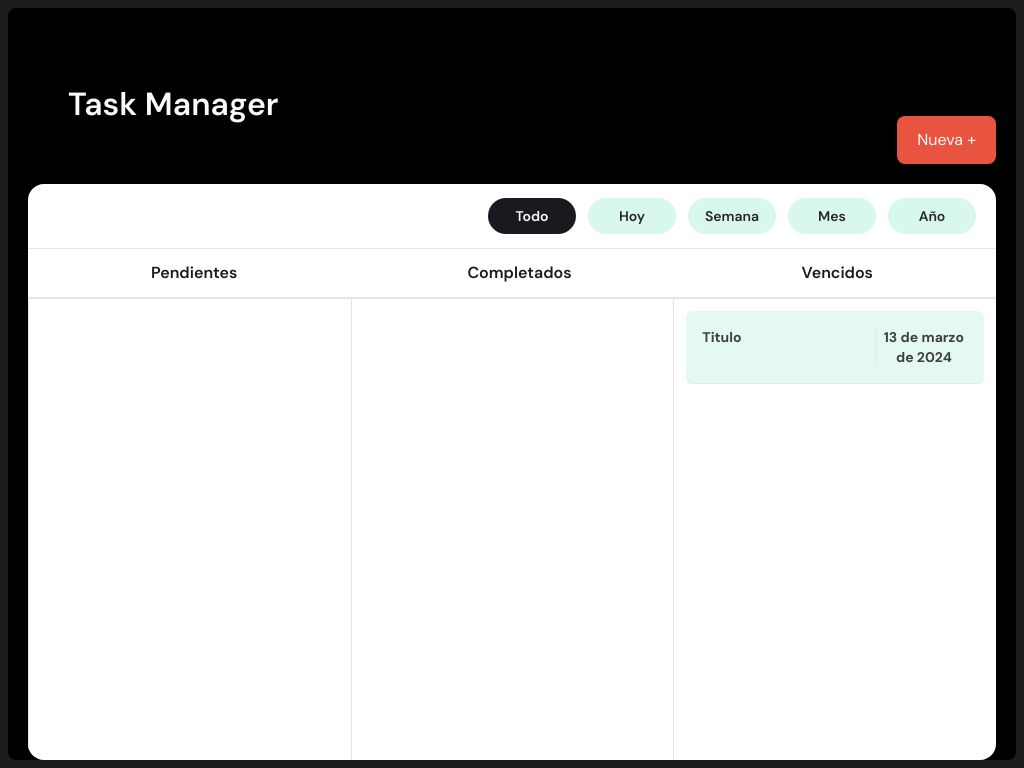
Test: App › Tasks CRUD › Update › should edit task title
Step 1. Click the button with test id "task-card" → (722, 337), box [686,311,984,383]
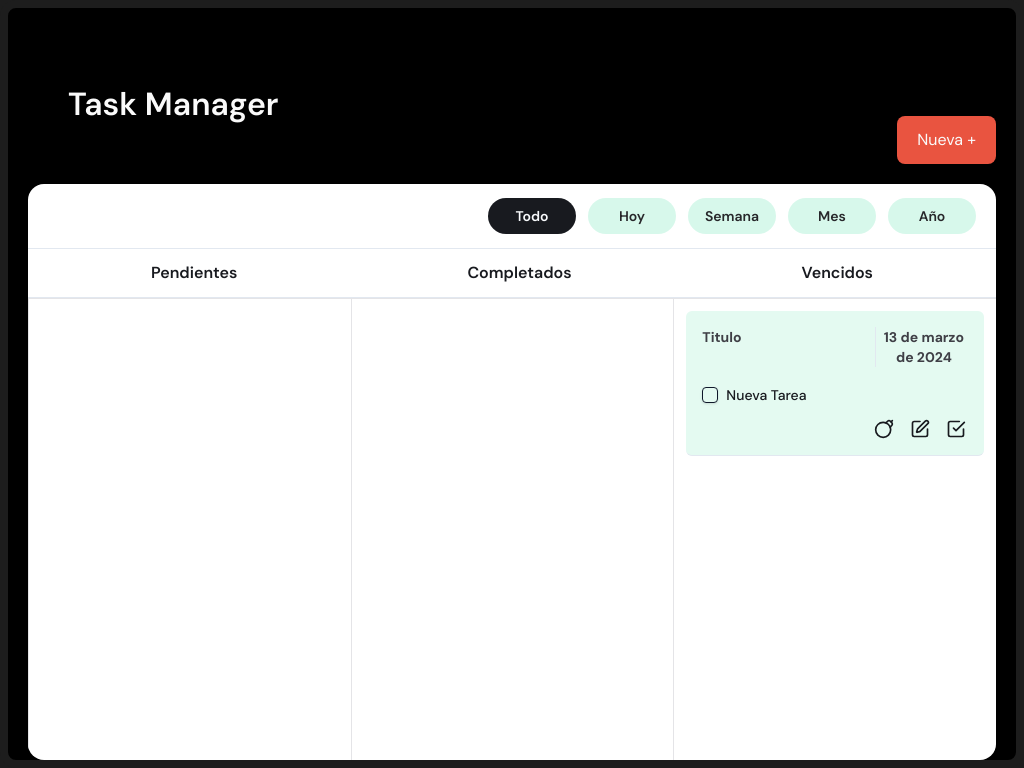
Step 2. Click the button with test id "edit" → (920, 429), box [908,419,932,439]
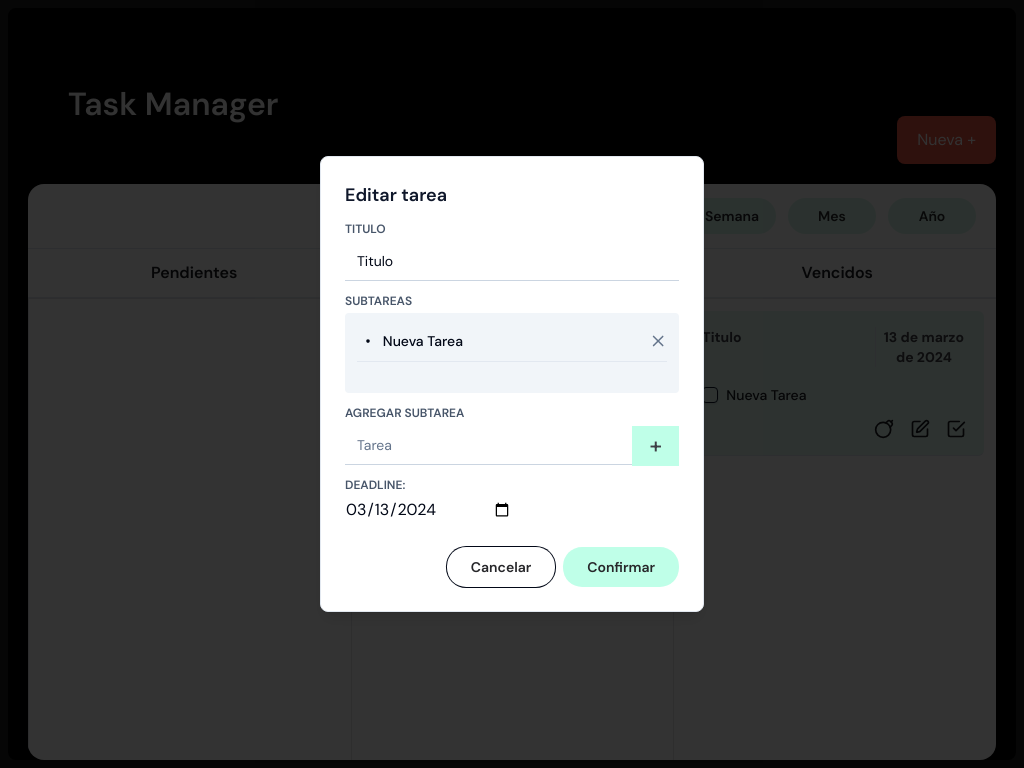
Step 3. Replace the text in the field with placeholder "Title" with "Otro titulo" → (512, 261), box [345,241,679,281]
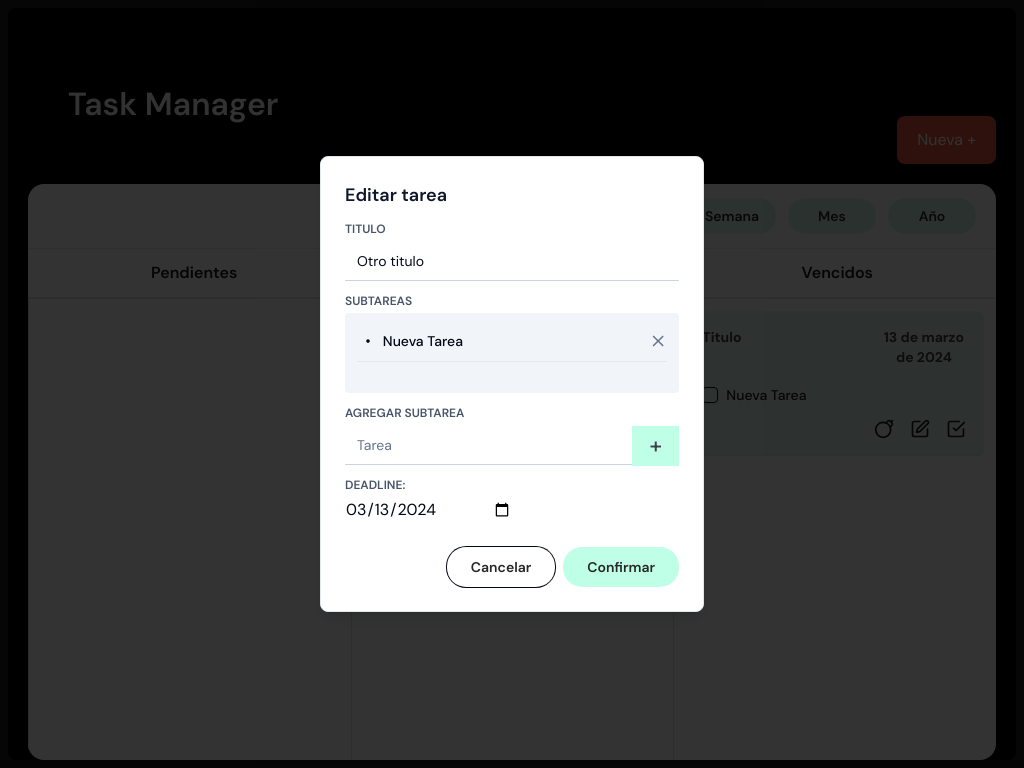
Step 4. Click the button "Confirmar" → (621, 567), box [563,547,679,587]
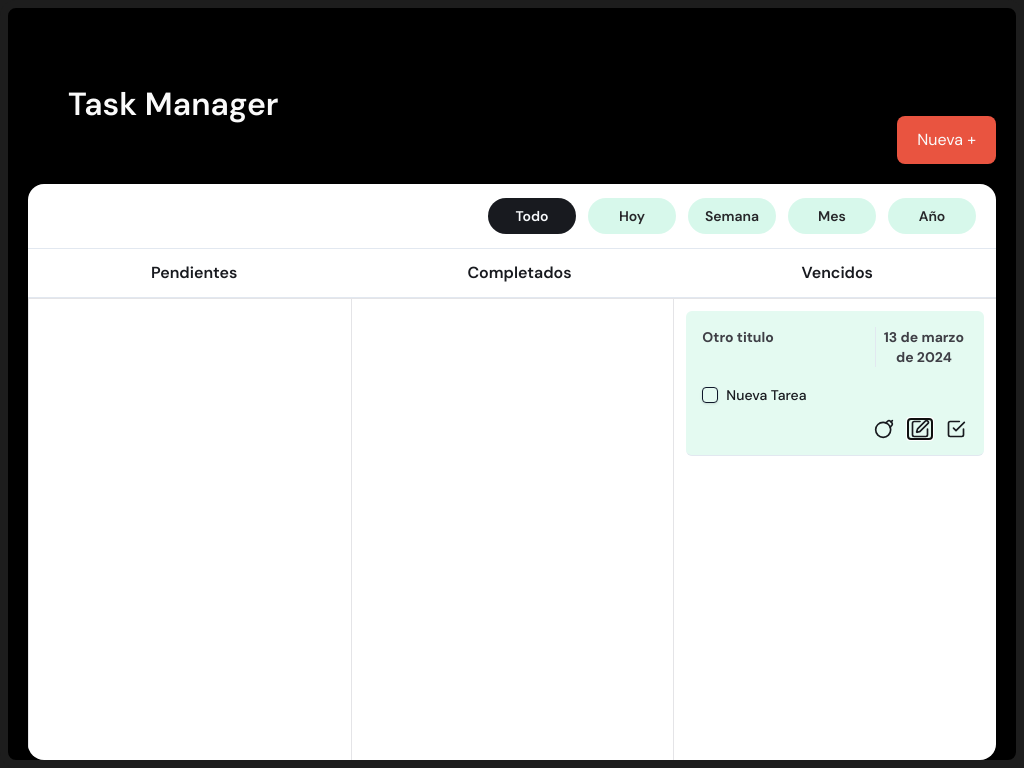
Expected: the heading with test id "task-title" reads "Otro titulo", [702,328,774,346]
